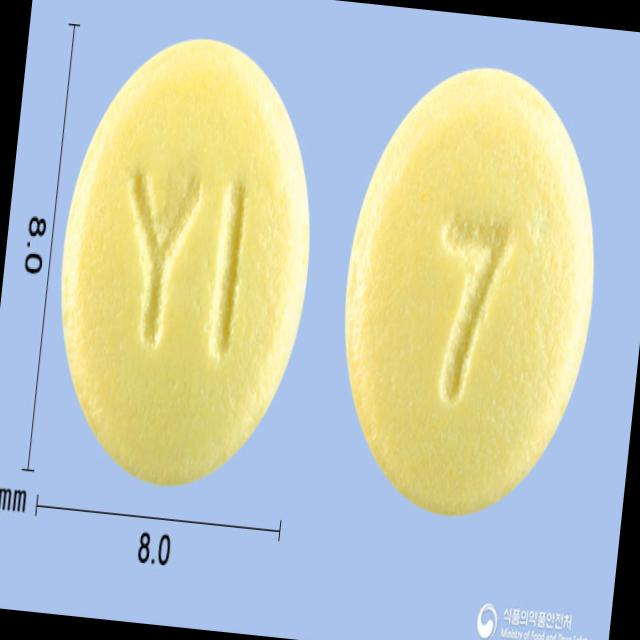Levopa: (323, 52, 617, 526), (39, 23, 330, 500)
